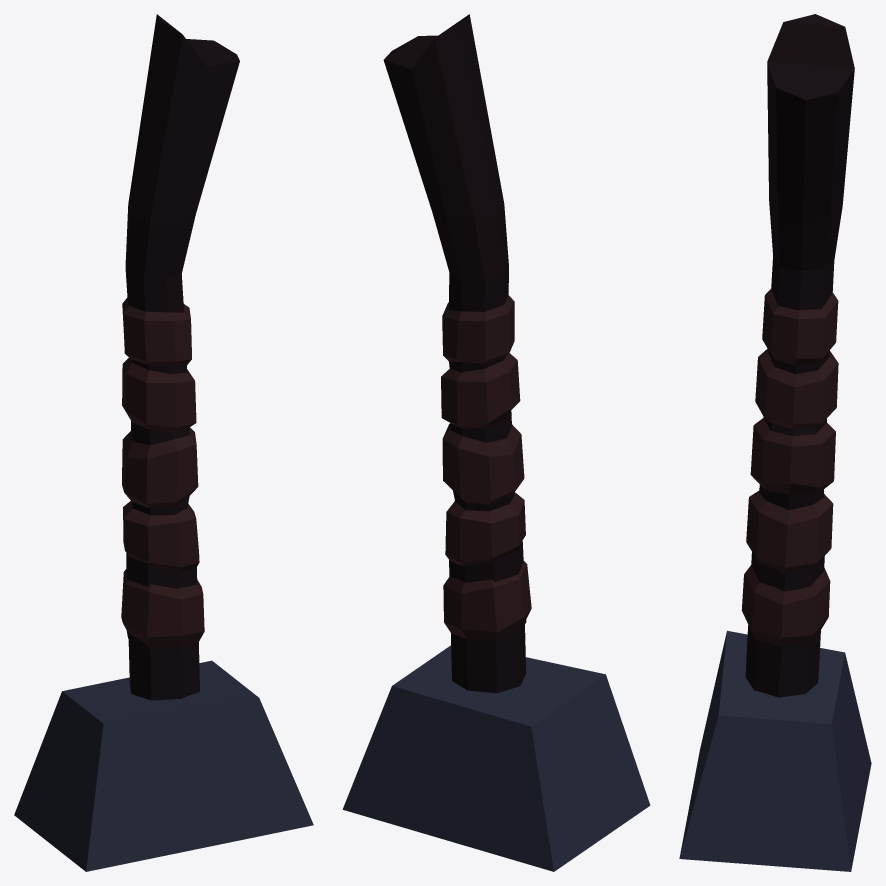
Rendered from LeverHandle.obj.
The picture shows the model from 3 angles, left to right: view 1: azimuth 30°, elevation 25°; view 2: azimuth 150°, elevation 25°; view 3: azimuth 270°, elevation 25°; orthographic projection. The views are drawn at different scales.
Visible parts, largest first — view 1: Axe_Double; view 2: Axe_Double; view 3: Axe_Double.
Boxes of the visible parts, x1,y1,x2,y2 form: Axe_Double: [14, 14, 313, 871]; Axe_Double: [342, 14, 650, 871]; Axe_Double: [679, 14, 871, 871].
Bounding box in the file's own units: 0.3959 × 1.3 × 0.2791.
